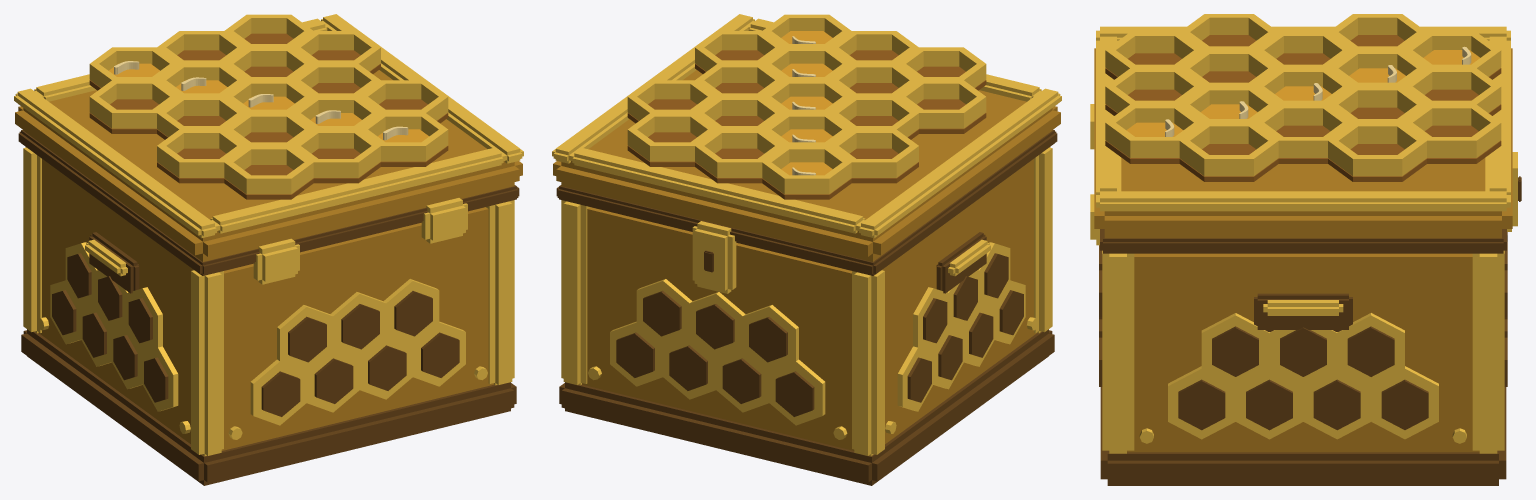
The model's file is crate_favo.fbx.
3 renders of one model, left to right at view 1: azimuth 30°, elevation 25°; view 2: azimuth 150°, elevation 25°; view 3: azimuth 270°, elevation 25°, orthographic. The views are drawn at different scales.
Parts seen in each view (by area): view 1: crate_favo_caixa; view 2: crate_favo_caixa; view 3: crate_favo_caixa.
Boxes of the visible parts, box(x1,y1,x2,y2) form: crate_favo_caixa: box(14, 14, 523, 485); crate_favo_caixa: box(552, 14, 1061, 485); crate_favo_caixa: box(1090, 14, 1521, 485).
Bounding box in the file's own units: 2.68 × 2.19 × 2.7.
1 material, 1 textured.
